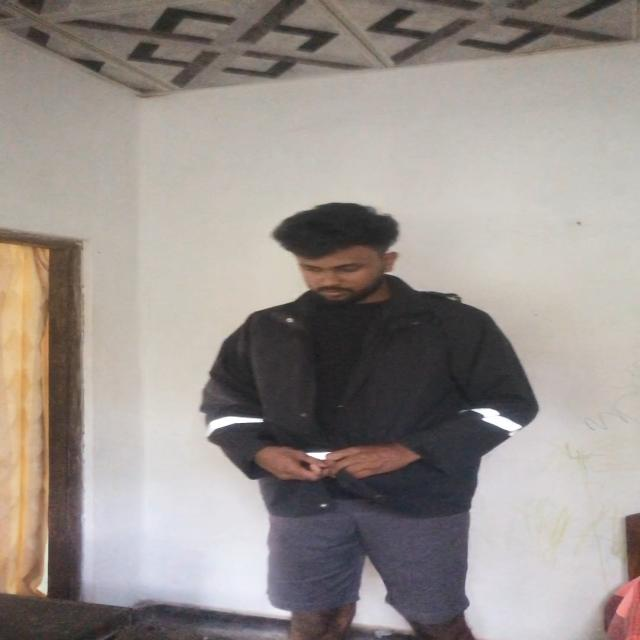Jacket_Wearer: (220, 278, 528, 523)
